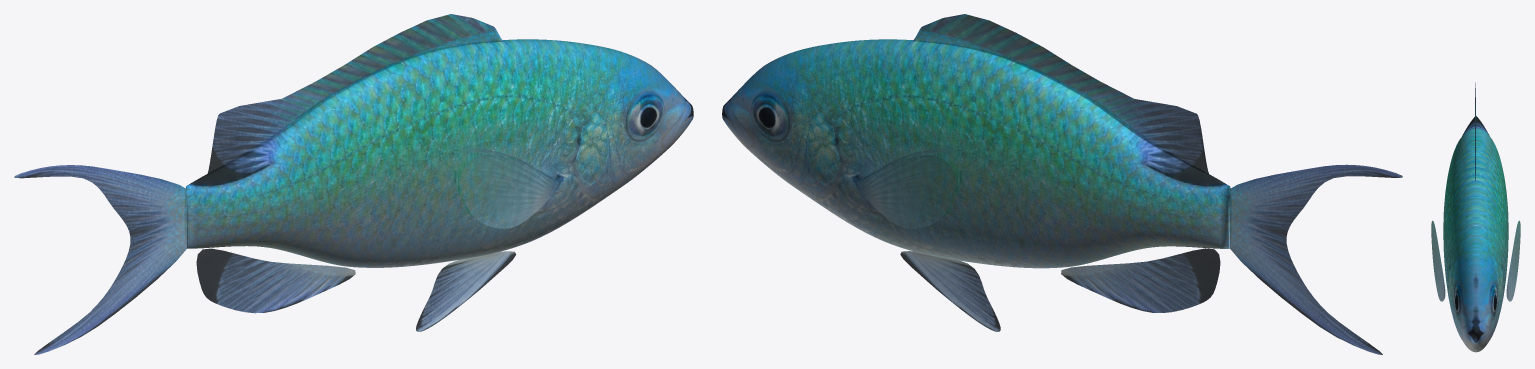
The model's file is chromis-BJi4ZRfM.glb.
3 renders of one model, left to right at view 1: azimuth 30°, elevation 25°; view 2: azimuth 150°, elevation 25°; view 3: azimuth 270°, elevation 25°, orthographic. The views are drawn at different scales.
Visible parts, largest first — view 1: chromis__body, chromis__fin_0, chromis__fin_1, chromis__fin_2, chromis__pectoral_1, chromis__fin_3, chromis__gill_1, chromis__eye_1; view 2: chromis__body, chromis__fin_0, chromis__fin_1, chromis__fin_2, chromis__pectoral_-1, chromis__fin_3, chromis__gill_-1, chromis__eye_-1; view 3: chromis__body, chromis__pectoral_1, chromis__pectoral_-1, chromis__gill_1, chromis__gill_-1, chromis__eye_1, chromis__eye_-1, chromis__fin_1.
Boxes of the visible parts, x1,y1,x2,y2 form: chromis__body: [186, 39, 693, 267]; chromis__fin_0: [14, 165, 186, 354]; chromis__fin_1: [207, 14, 503, 175]; chromis__fin_2: [196, 248, 355, 313]; chromis__pectoral_1: [459, 155, 559, 228]; chromis__fin_3: [416, 251, 515, 331]; chromis__gill_1: [566, 107, 617, 213]; chromis__eye_1: [631, 98, 661, 135]; chromis__body: [722, 39, 1230, 268]; chromis__fin_0: [1230, 164, 1402, 354]; chromis__fin_1: [913, 14, 1209, 175]; chromis__fin_2: [1061, 248, 1220, 312]; chromis__pectoral_-1: [856, 155, 956, 228]; chromis__fin_3: [900, 251, 1000, 331]; chromis__gill_-1: [798, 107, 849, 213]; chromis__eye_-1: [754, 98, 783, 135]; chromis__body: [1443, 116, 1508, 352]; chromis__pectoral_1: [1431, 220, 1445, 301]; chromis__pectoral_-1: [1506, 220, 1520, 301]; chromis__gill_1: [1448, 257, 1461, 339]; chromis__gill_-1: [1490, 257, 1503, 339]; chromis__eye_1: [1454, 287, 1460, 316]; chromis__eye_-1: [1491, 287, 1497, 316]; chromis__fin_1: [1475, 82, 1475, 180].
Size of the model in its own units: 1.34 by 0.5872 by 0.2057.
3 materials, 3 textured.
